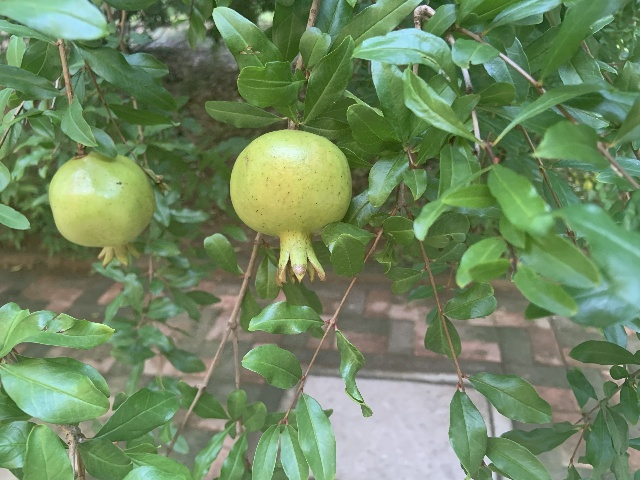mid-growth: (229, 129, 352, 286), (48, 150, 156, 269)
